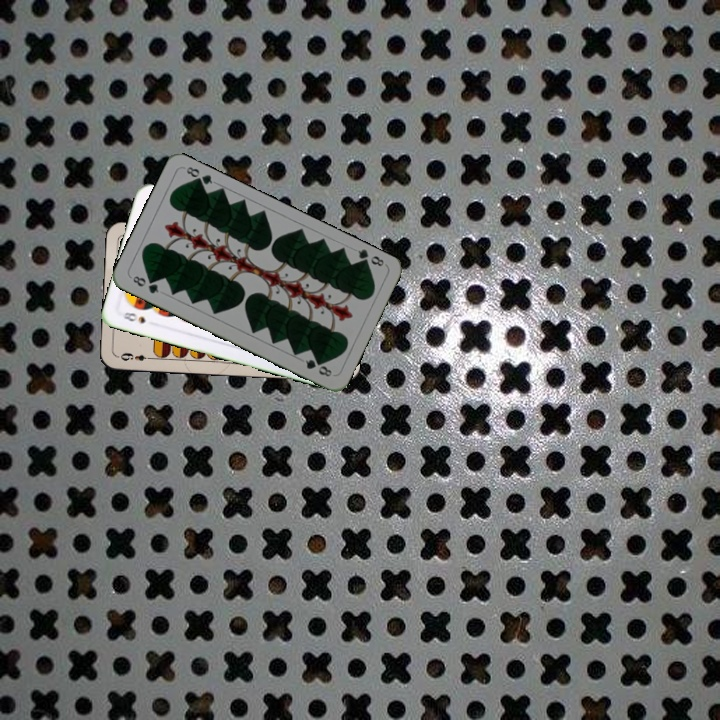E9: (115, 348, 155, 364)
G8: (353, 245, 387, 270), (127, 272, 161, 296)
S8: (119, 308, 148, 326)
